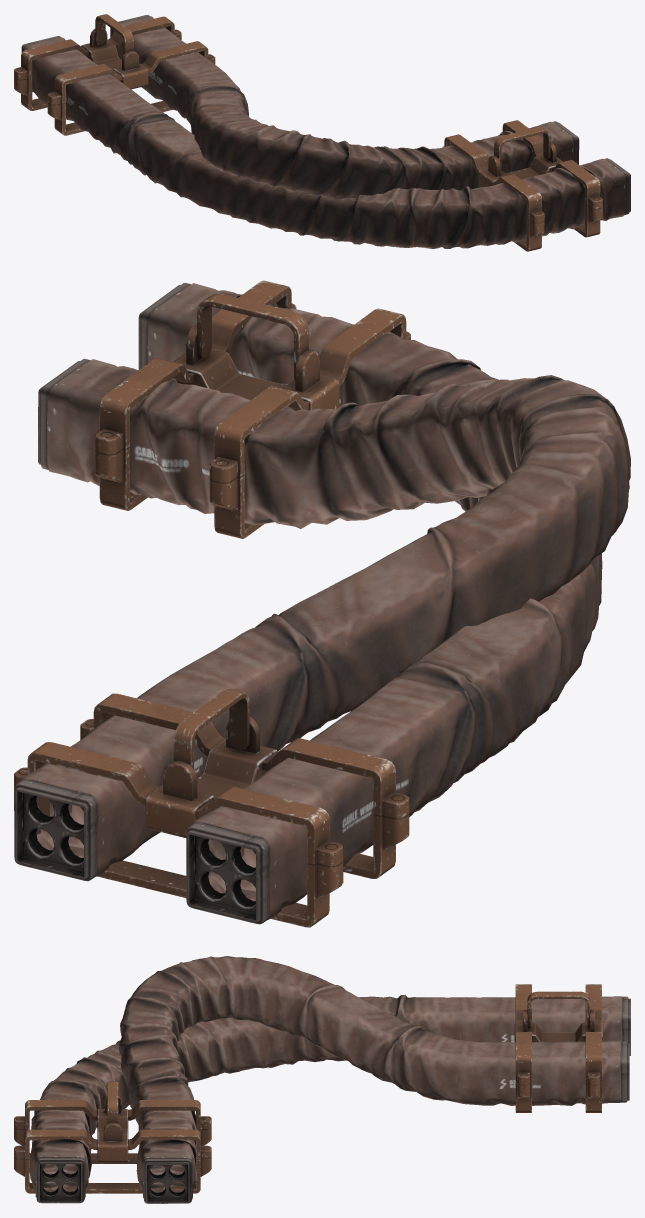
File: SM_Wire02_Corner.fbx
3 renders of one model, top to bottom at view 1: azimuth 30°, elevation 25°; view 2: azimuth 150°, elevation 25°; view 3: azimuth 270°, elevation 25°, orthographic. The views are drawn at different scales.
Parts seen in each view (by area): view 1: SM_Wire02_Corner_LOD0; view 2: SM_Wire02_Corner_LOD0; view 3: SM_Wire02_Corner_LOD0.
Boxes of the visible parts, box(x1,y1,x2,y2) form: SM_Wire02_Corner_LOD0: box(14, 14, 630, 251); SM_Wire02_Corner_LOD0: box(14, 280, 630, 927); SM_Wire02_Corner_LOD0: box(14, 956, 630, 1203).
Size of the model in its own units: 106 by 157 by 29.86.
1 material, 1 textured.
